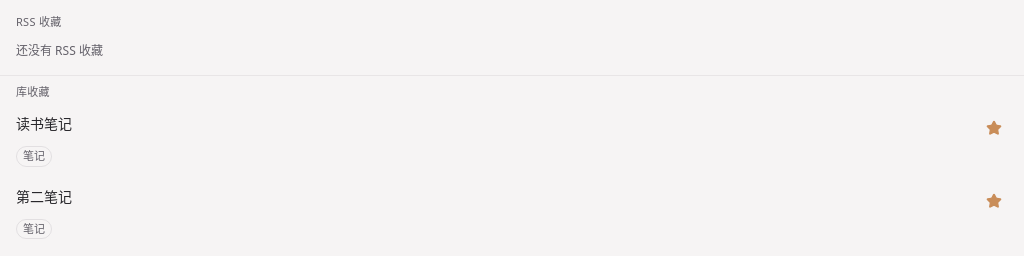
Test: 库收藏切换（P0-10） › FavoritesPage LibraryRow：取消收藏 → removeLibraryFavorite + 行乐观消失
Expected: the button "读书笔记" is shown, [16,114,972,134]
Expected: the button "第二笔记" is shown, [16,187,972,207]
#  取消第一条收藏
Click the 1st button named "取消收藏" at (994, 128), box [980,114,1008,142]
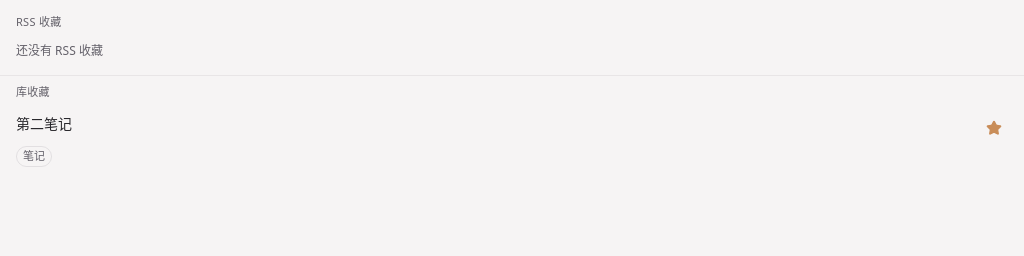
Expected: the button "第二笔记" is shown, [16,114,972,134]
Now the button "读书笔记" is gone
